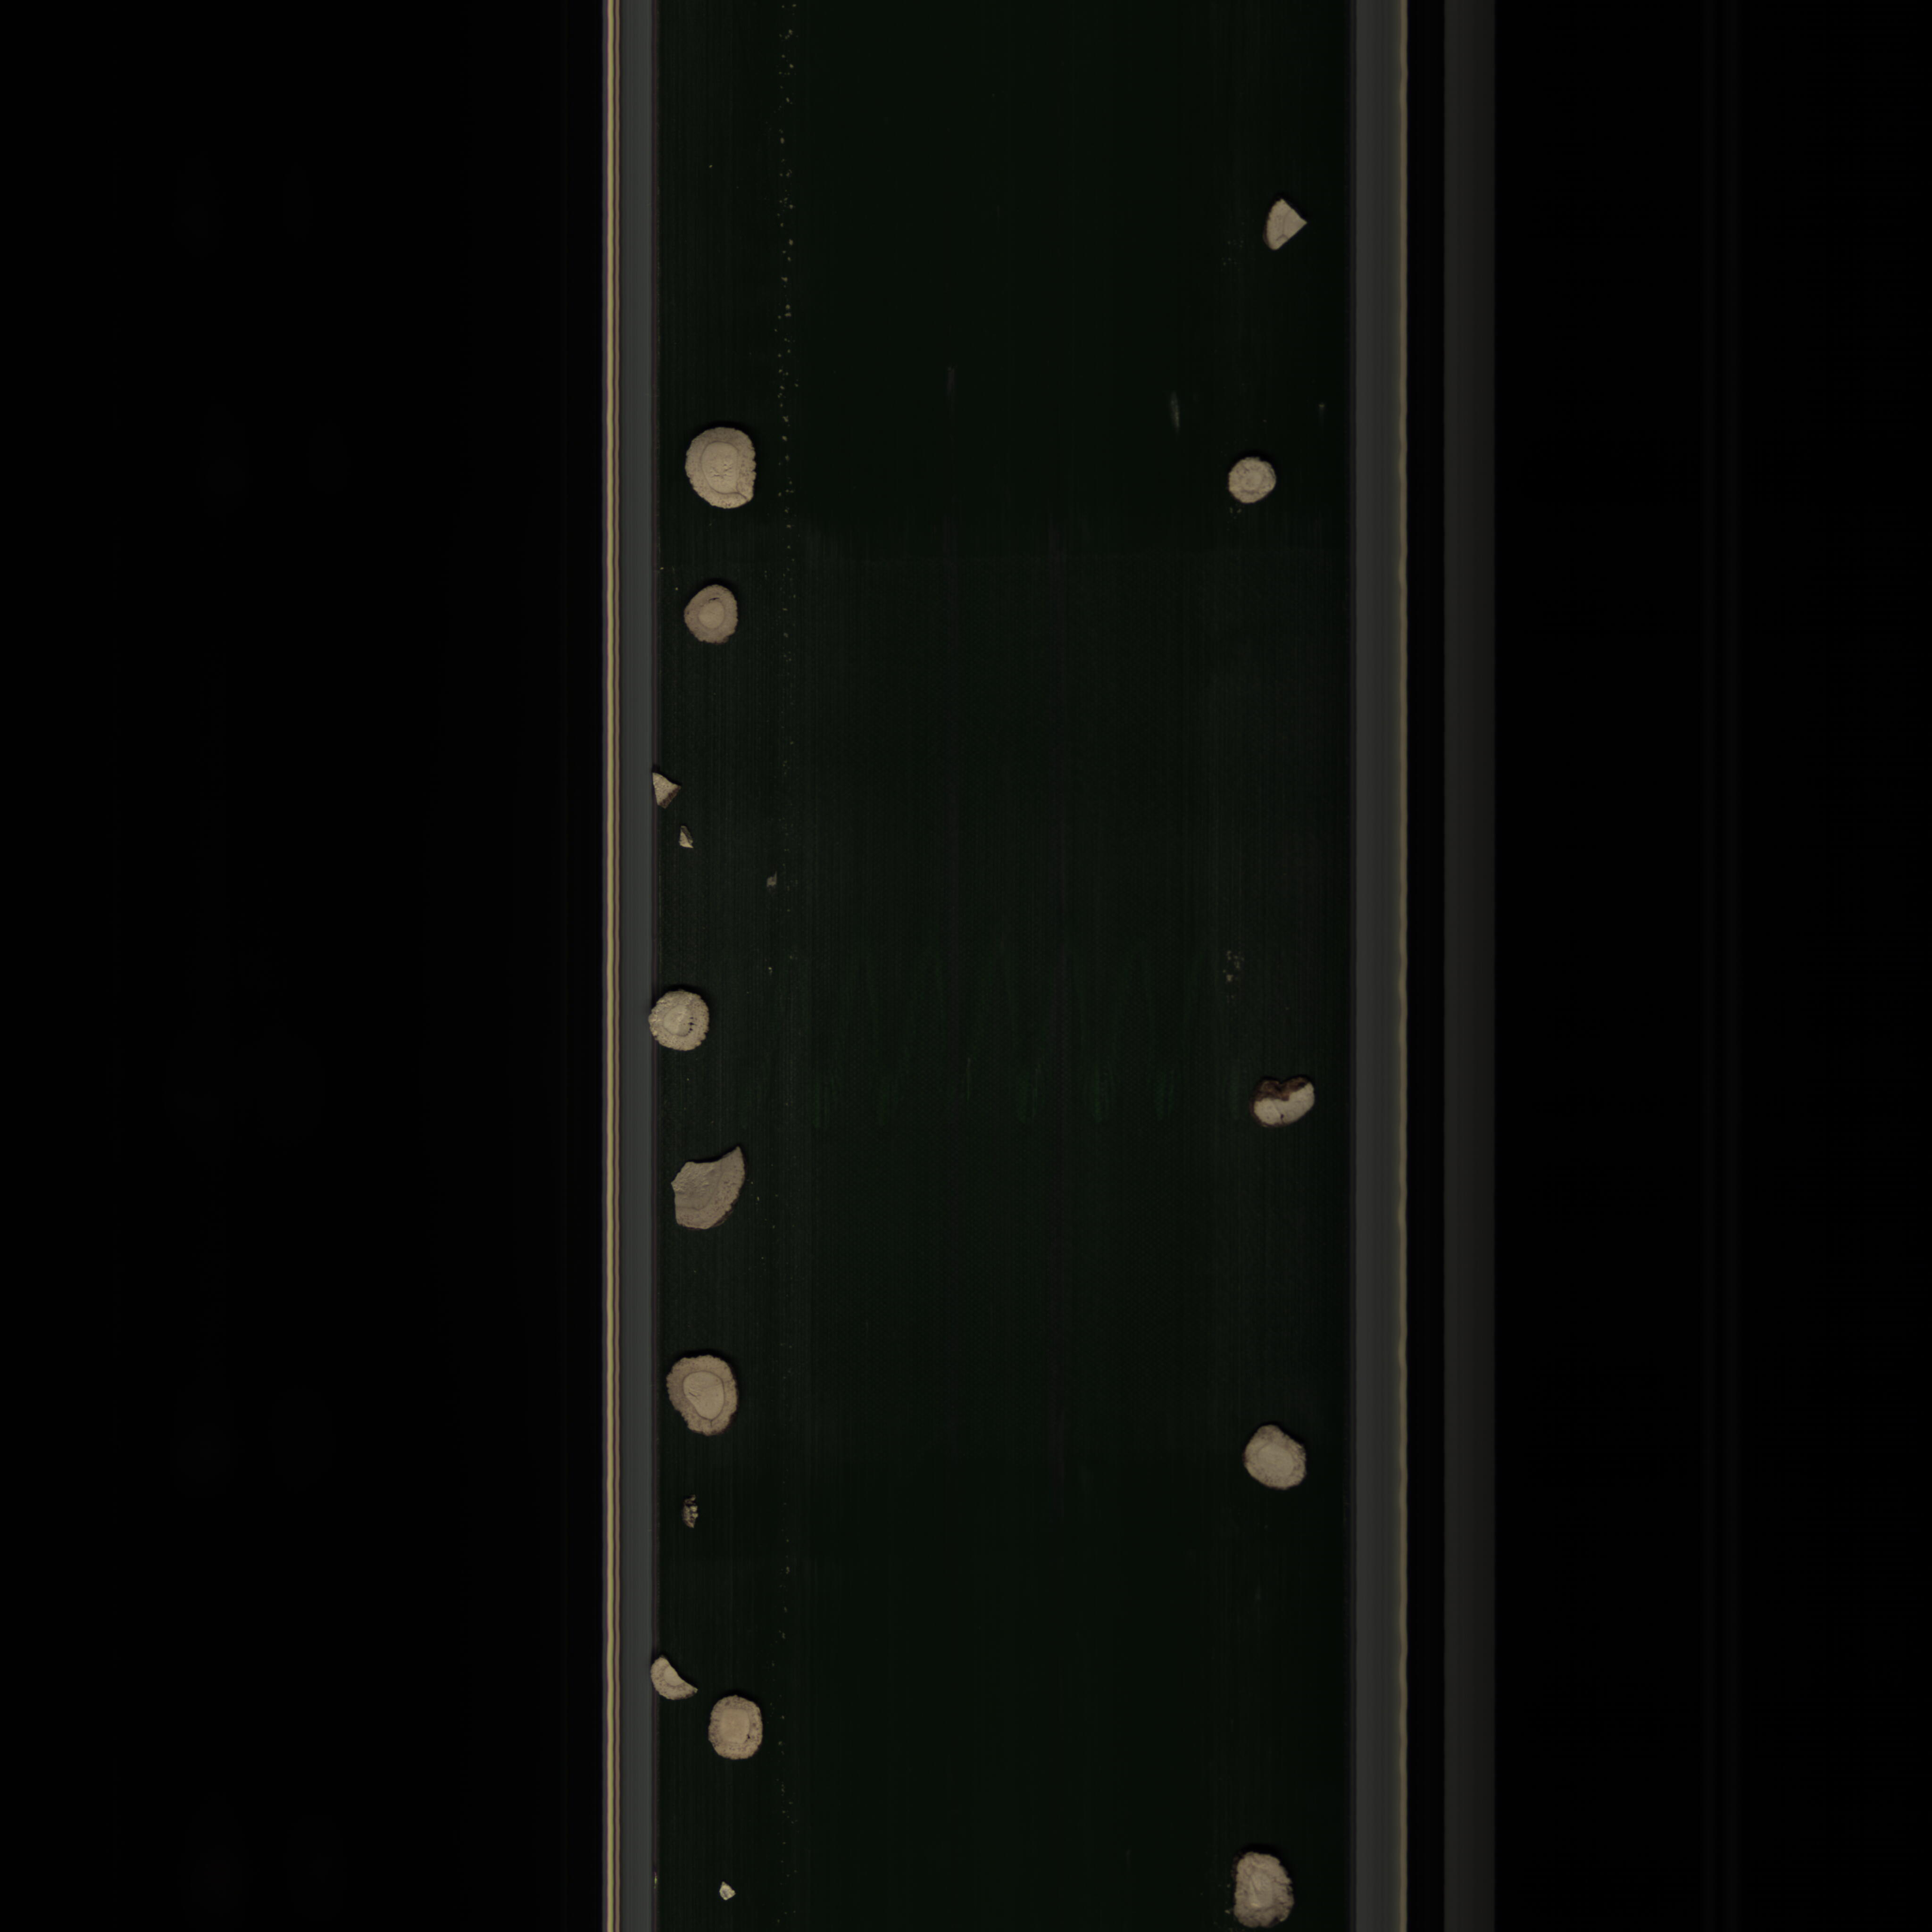bark: (1244, 1070, 1329, 1138)
debris: (663, 1143, 754, 1242), (1261, 193, 1320, 260), (648, 1654, 706, 1709), (642, 768, 686, 814)
